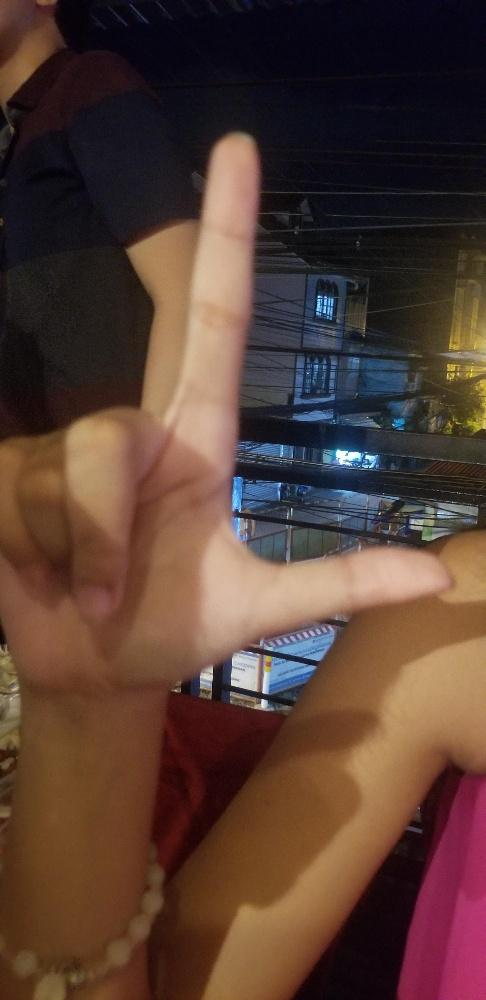l: (0, 128, 455, 687)
